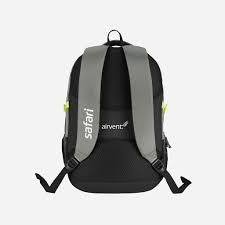backpack: (35, 29, 191, 194)
